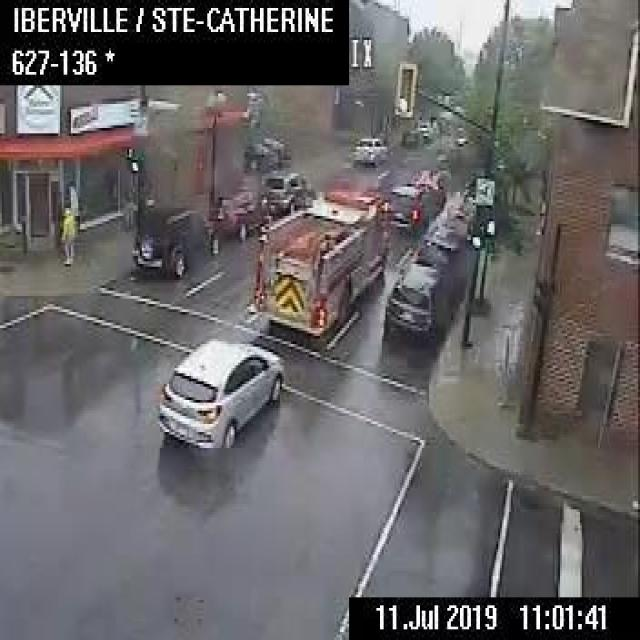pedestrian: (60, 205, 73, 267)
vehicle: (245, 184, 388, 333), (156, 334, 284, 452), (131, 203, 220, 274), (383, 260, 446, 346), (415, 215, 467, 297), (210, 186, 272, 241), (261, 168, 314, 210), (385, 183, 427, 231), (406, 166, 445, 208), (439, 189, 476, 231), (352, 136, 387, 164), (244, 140, 277, 169), (260, 134, 287, 160), (401, 127, 423, 146), (415, 119, 432, 138)
